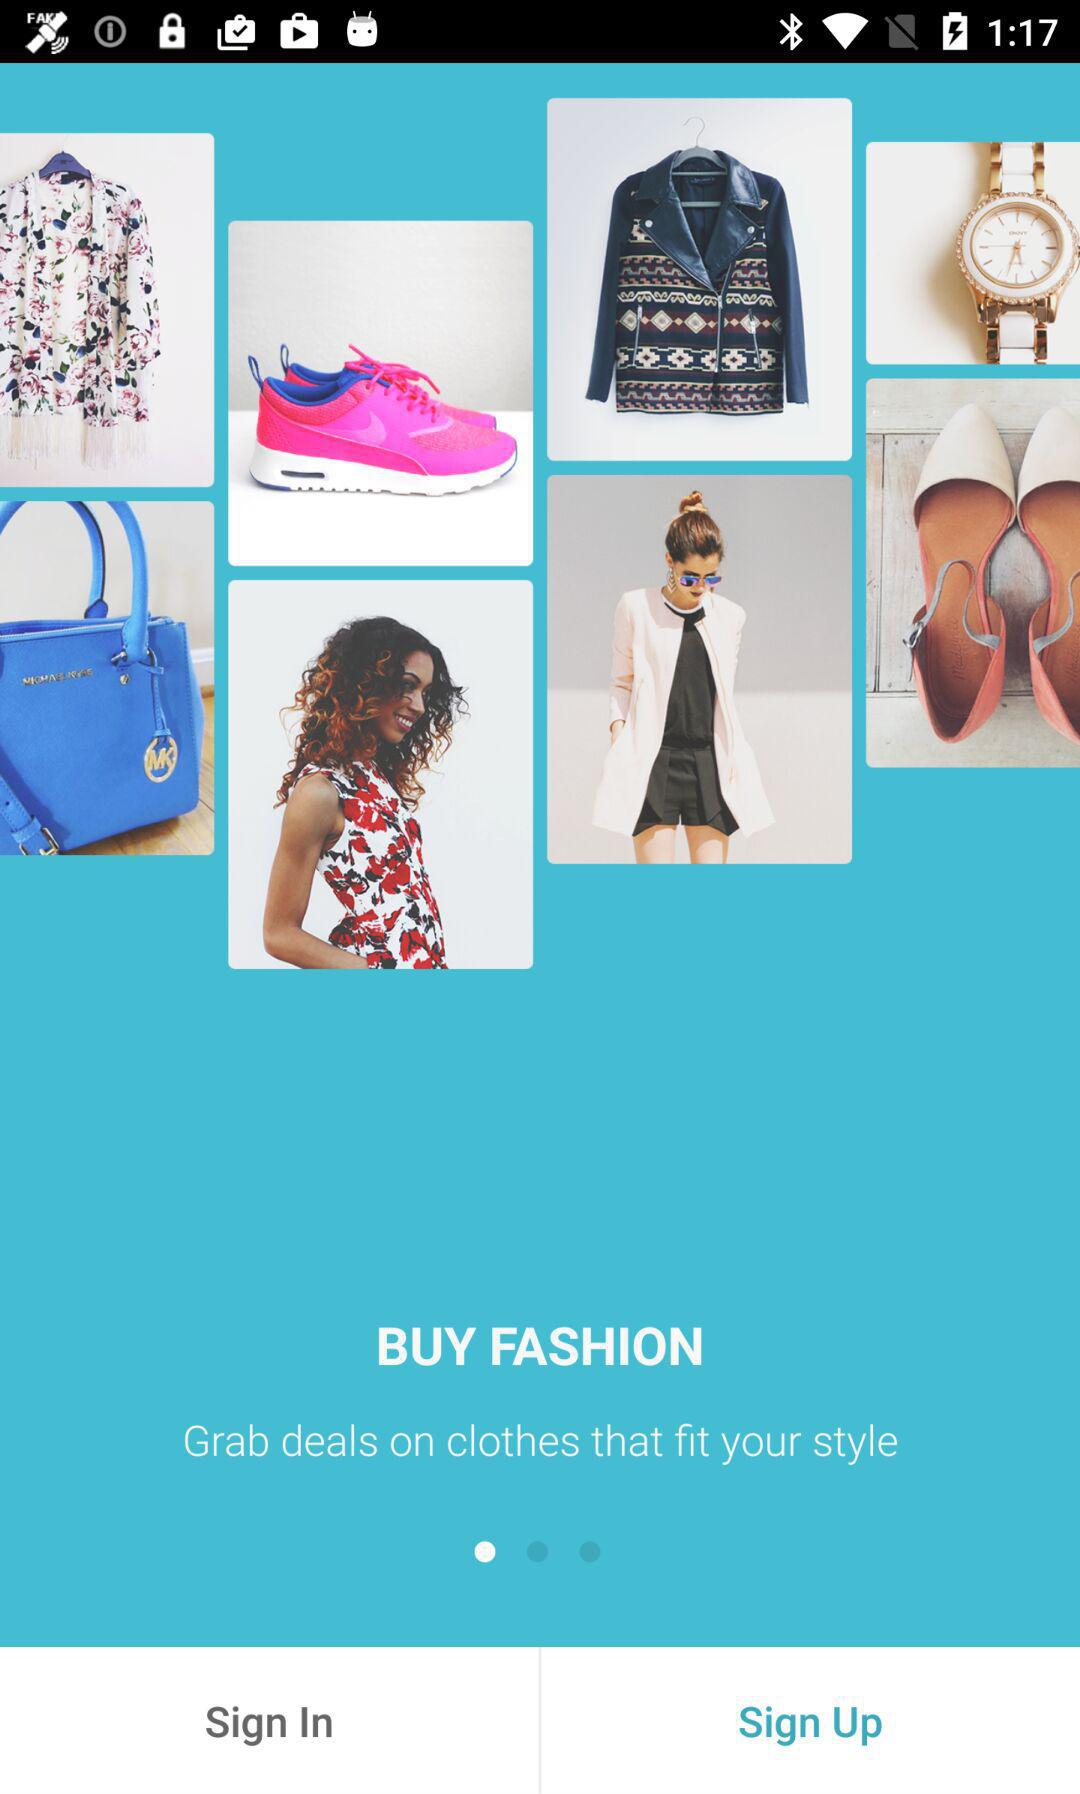Image: (1, 97, 1080, 971)
PageIndicator: (473, 1540, 602, 1565)
Text: (184, 1422, 898, 1466), (378, 1326, 703, 1367)
TextButton: (1, 1647, 541, 1794), (541, 1647, 1080, 1794)
UpperTaskBar: (1, 1, 1080, 64)
